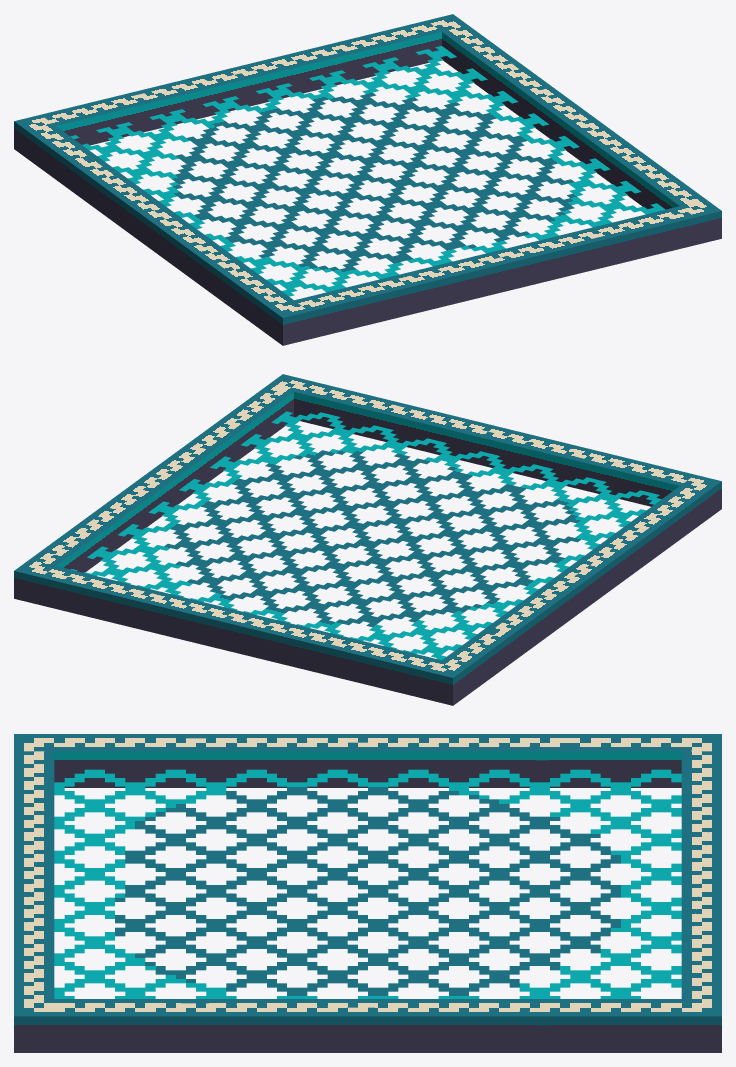
Rendered from movingPlatform.gltf.
3 renders of one model, top to bottom at view 1: azimuth 30°, elevation 25°; view 2: azimuth 150°, elevation 25°; view 3: azimuth 270°, elevation 25°, orthographic. The views are drawn at different scales.
Visible parts, largest first — view 1: cube (×4), plane; view 2: cube (×4), plane; view 3: cube (×4), plane.
Boxes of the visible parts, bbox=[...] form: cube (×4): bbox=[14, 14, 721, 345]; plane: bbox=[70, 46, 665, 296]; cube (×4): bbox=[14, 374, 721, 705]; plane: bbox=[70, 411, 661, 660]; cube (×4): bbox=[14, 734, 721, 1052]; plane: bbox=[54, 769, 681, 998].
Bounding box in the file's own units: 4.12 × 0.25 × 4.38.
Materials: 1 (1 with a texture image).
